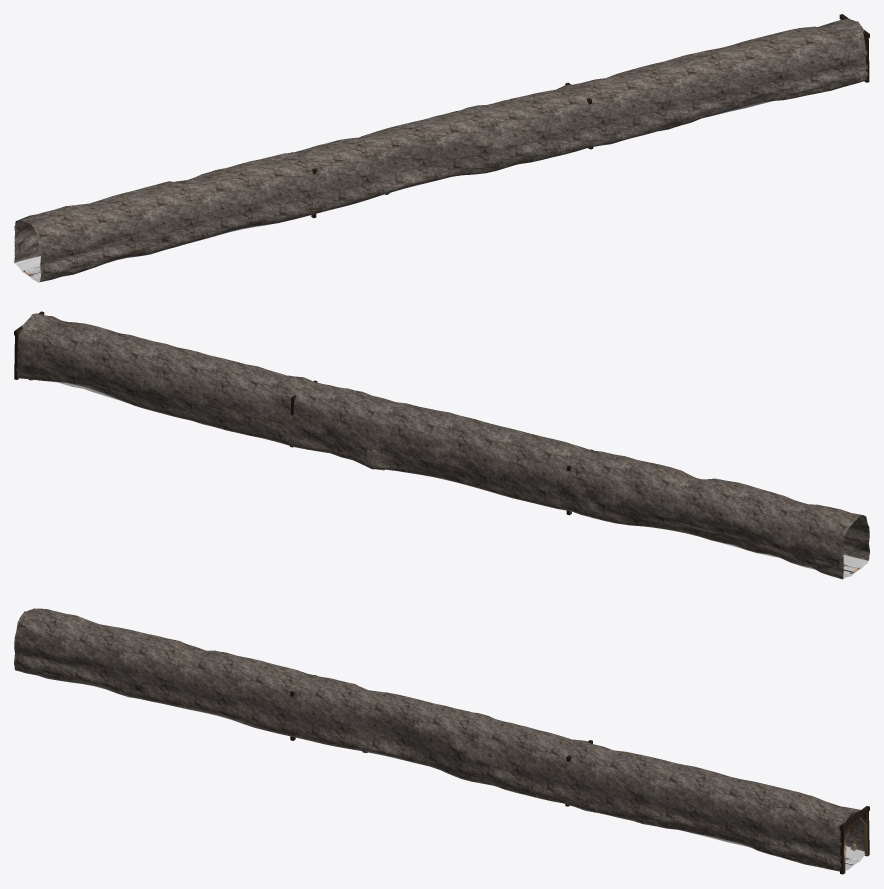
Rendered from cave_segment.dae.
3 renders of one model, top to bottom at view 1: azimuth 30°, elevation 25°; view 2: azimuth 150°, elevation 25°; view 3: azimuth 330°, elevation 25°, orthographic.
Parts seen in each view (by area): view 1: Cave; view 2: Cave; view 3: Cave, HorizontalBeam_003.
Boxes of the visible parts, x1,y1,x2,y2 form: Cave: [14, 18, 867, 282]; Cave: [15, 313, 869, 579]; Cave: [14, 608, 865, 871]; HorizontalBeam_003: [839, 806, 869, 874].
Size of the model in its own units: 221 by 15.29 by 14.69.
